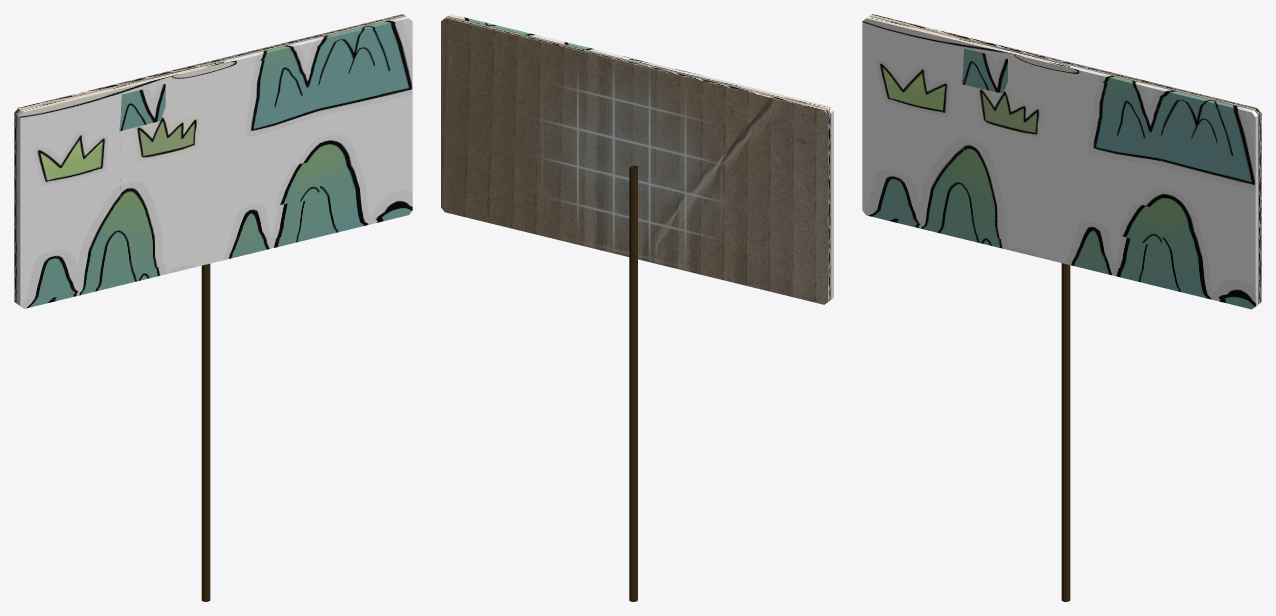
The model's file is Ban.fbx.
3 views of the same model, side by side, from view 1: azimuth 30°, elevation 25°; view 2: azimuth 150°, elevation 25°; view 3: azimuth 330°, elevation 25° (orthographic).
Parts seen in each view (by area): view 1: Ban, handle, BG, c11, c20, c15, c6, c10, c5, c1, c16, c21 (+16 smaller); view 2: BG, handle, Ban; view 3: Ban, handle, BG, c11, c20, c15, c6, c10, c5, c1, c16, c9 (+16 smaller).
Boxes of the visible parts, x1,y1,x2,y2 form: Ban: (17, 16, 412, 308); handle: (201, 263, 210, 601); BG: (14, 14, 405, 304); c11: (273, 119, 321, 167); c20: (272, 160, 320, 205); c15: (119, 157, 166, 205); c6: (119, 121, 165, 168); c10: (274, 82, 321, 130); c5: (119, 84, 165, 131); c1: (274, 46, 321, 90); c16: (121, 195, 165, 242); c21: (272, 198, 321, 238); BG: (441, 16, 830, 304); handle: (629, 165, 637, 601); Ban: (448, 14, 833, 301); Ban: (862, 16, 1258, 309); handle: (1061, 263, 1070, 601); BG: (869, 14, 1261, 305); c11: (1115, 159, 1164, 211); c20: (1115, 197, 1162, 248); c15: (962, 122, 1008, 170); c6: (961, 84, 1008, 132); c10: (1117, 122, 1164, 170); c5: (961, 48, 1007, 93); c1: (1117, 86, 1164, 133); c16: (963, 159, 1007, 207); c9: (1080, 112, 1121, 159).
Bounding box in the file's own units: 18.18 × 23.93 × 0.8827.
